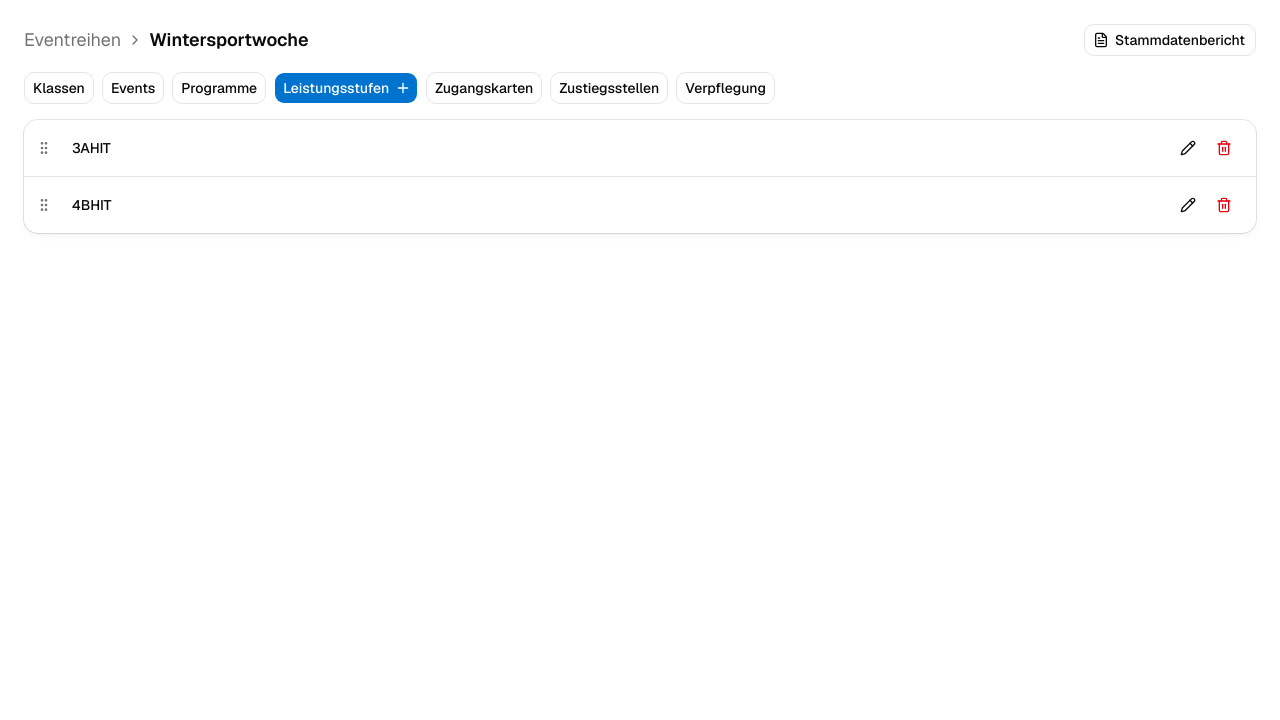
Test case: MasterDataView — adding › reports a duplicate name on the name field, where the teacher can fix it
Click the button with aria-label "Leistungsstufen: Neue Leistungsstufe". click: (346, 88)
box: [274,72,418,104]
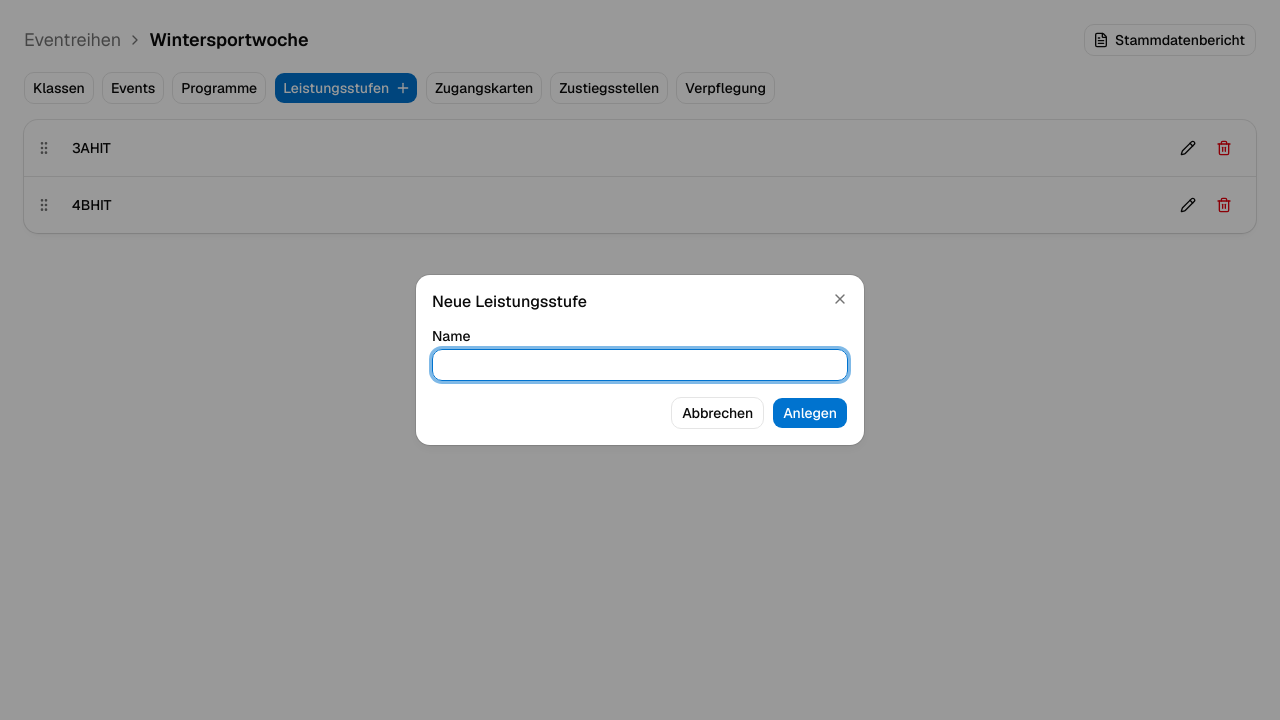
Type "3AHIT" into the field labelled "Name". click: (640, 365)
box: [432,349,848,381]
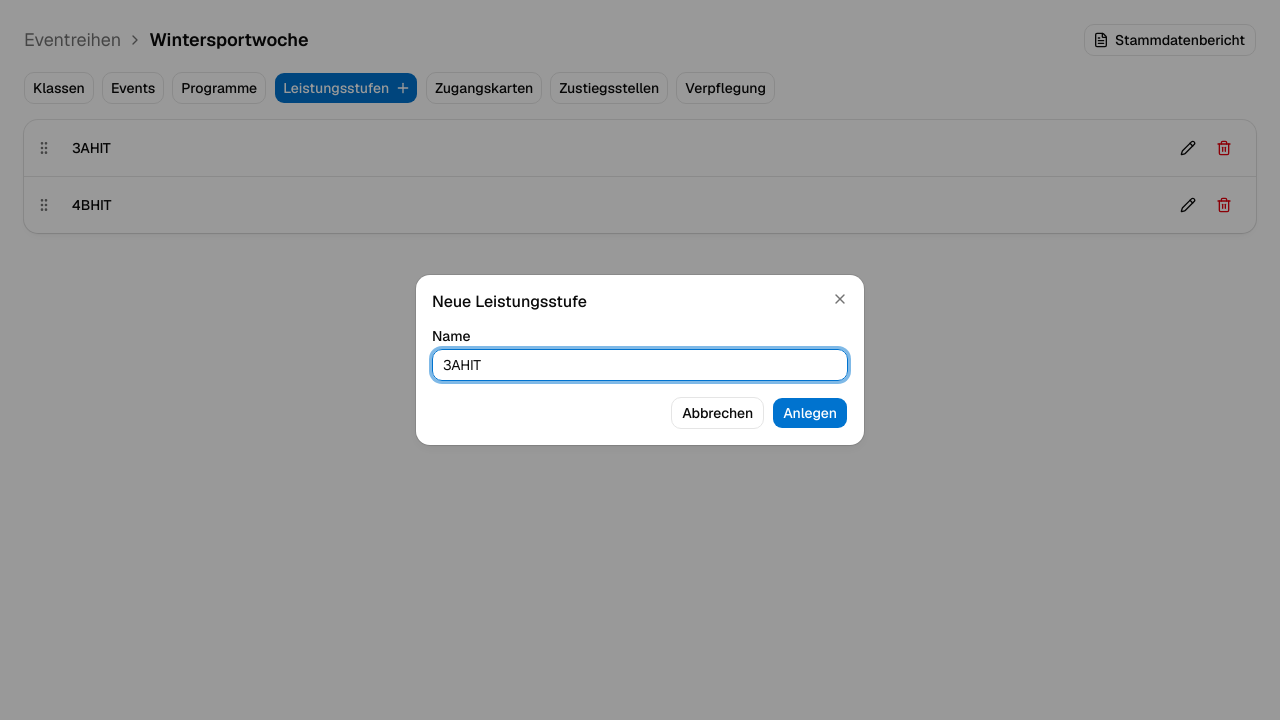
Click the button "Anlegen". click: (810, 413)
box: [772,397,848,429]
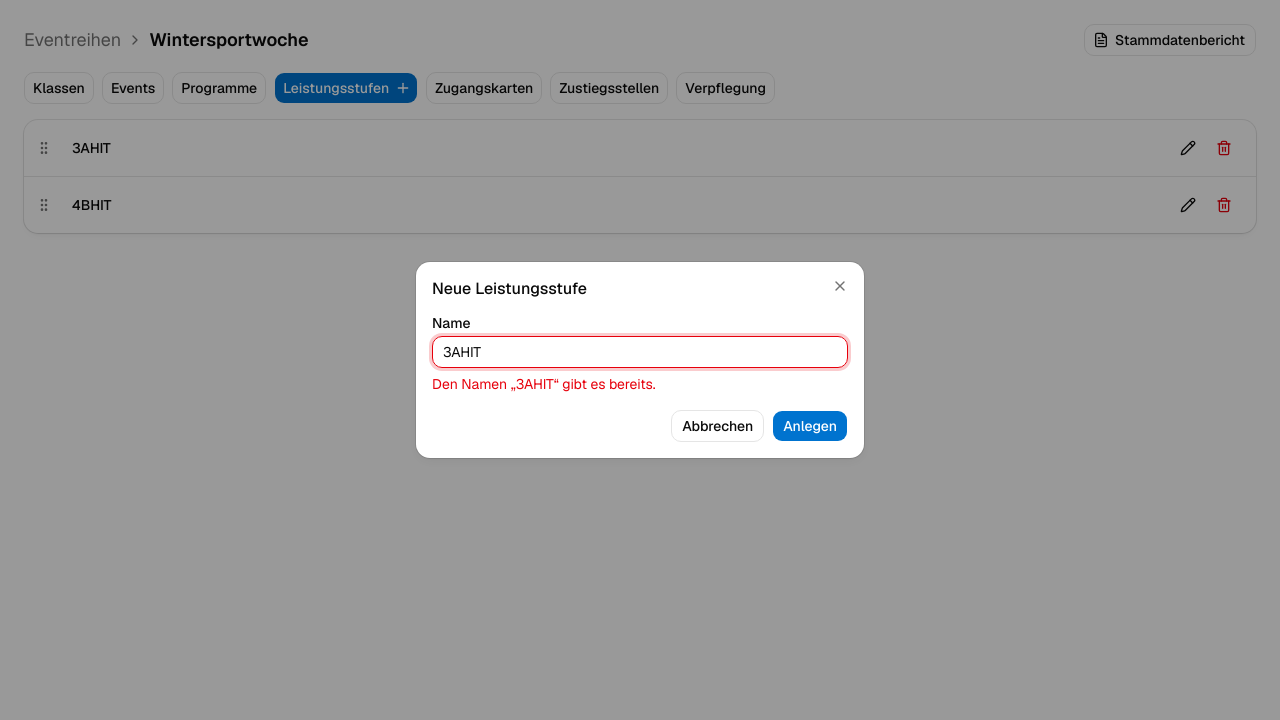
Check: the text "Den Namen „3AHIT“ gibt es bereits." is shown, box [432,375,656,393]
